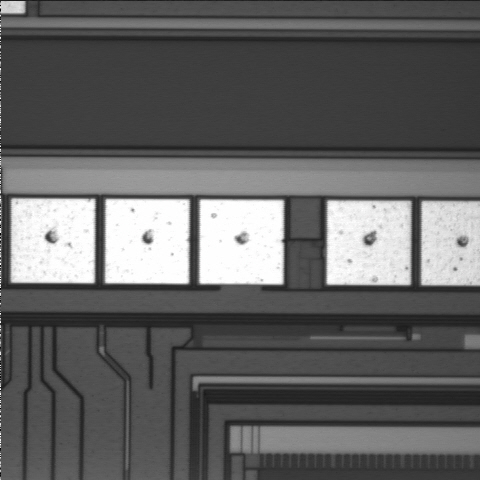pad: (199, 199, 284, 284), (105, 199, 189, 284), (11, 199, 95, 283), (327, 201, 411, 285)
